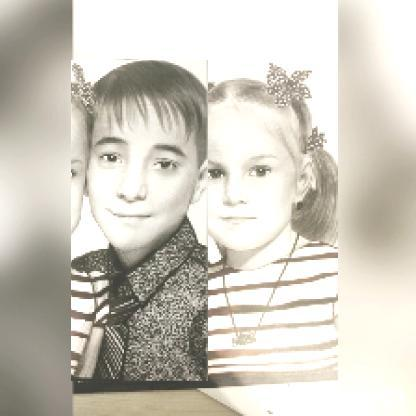child: (172, 62, 339, 382), (72, 61, 210, 384)
